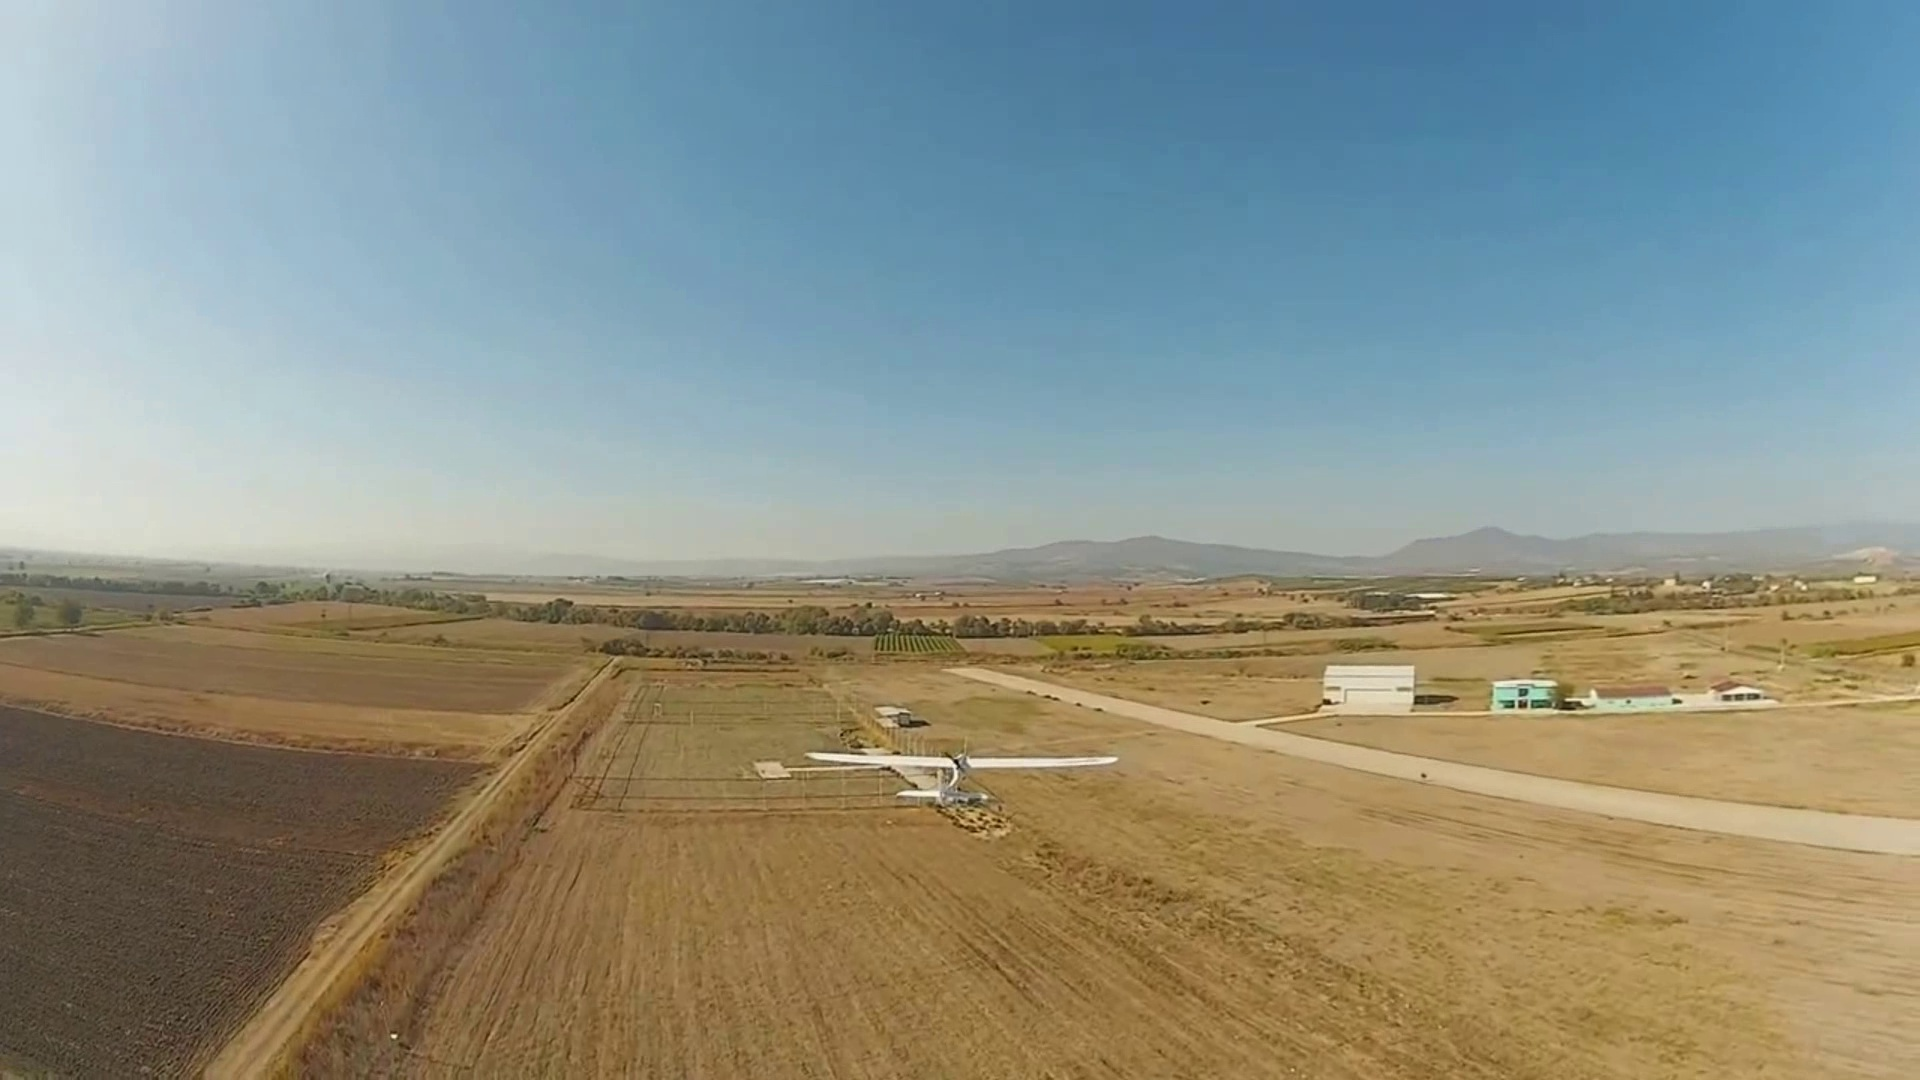airplane: (756, 704, 1124, 828)
